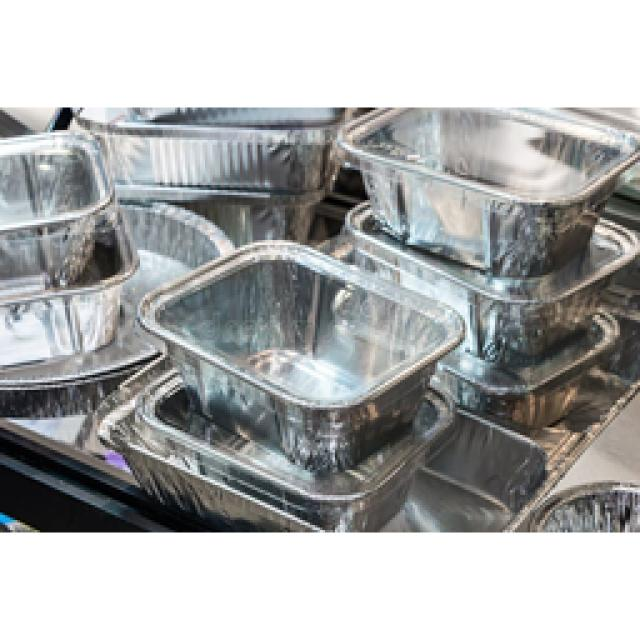alumunium: (0, 108, 638, 530)
